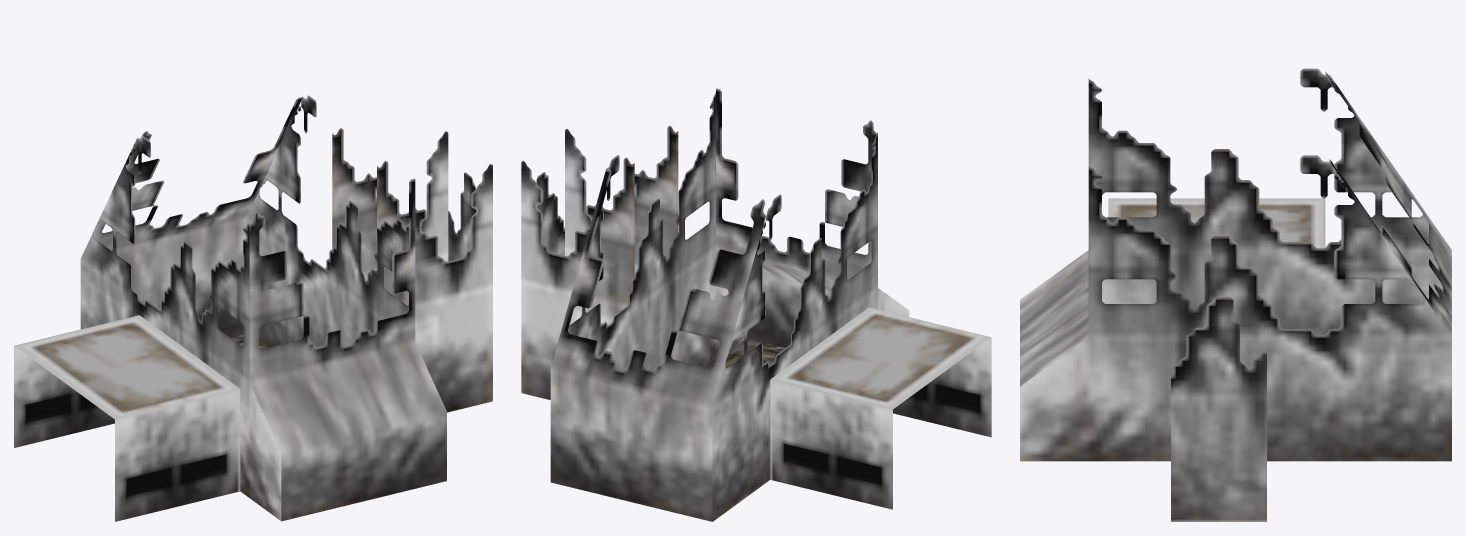
File: trafcon_dam.glb
3 views of the same model, side by side, from view 1: azimuth 30°, elevation 25°; view 2: azimuth 150°, elevation 25°; view 3: azimuth 270°, elevation 25° (orthographic). The views are drawn at different scales.
Visible parts, largest first — view 1: TrafConDam; view 2: TrafConDam; view 3: TrafConDam.
Part boxes in pixels (box(x1,y1,x2,y2)): TrafConDam: box(14, 95, 492, 521); TrafConDam: box(521, 88, 991, 521); TrafConDam: box(1020, 68, 1451, 521).
Bounding box in the file's own units: 23.29 × 20.43 × 19.91.
Materials: 2 (2 with a texture image).
